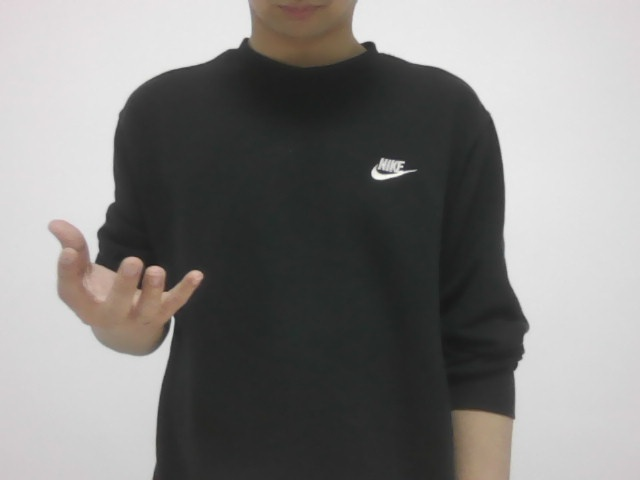flavor: (30, 214, 217, 351)
